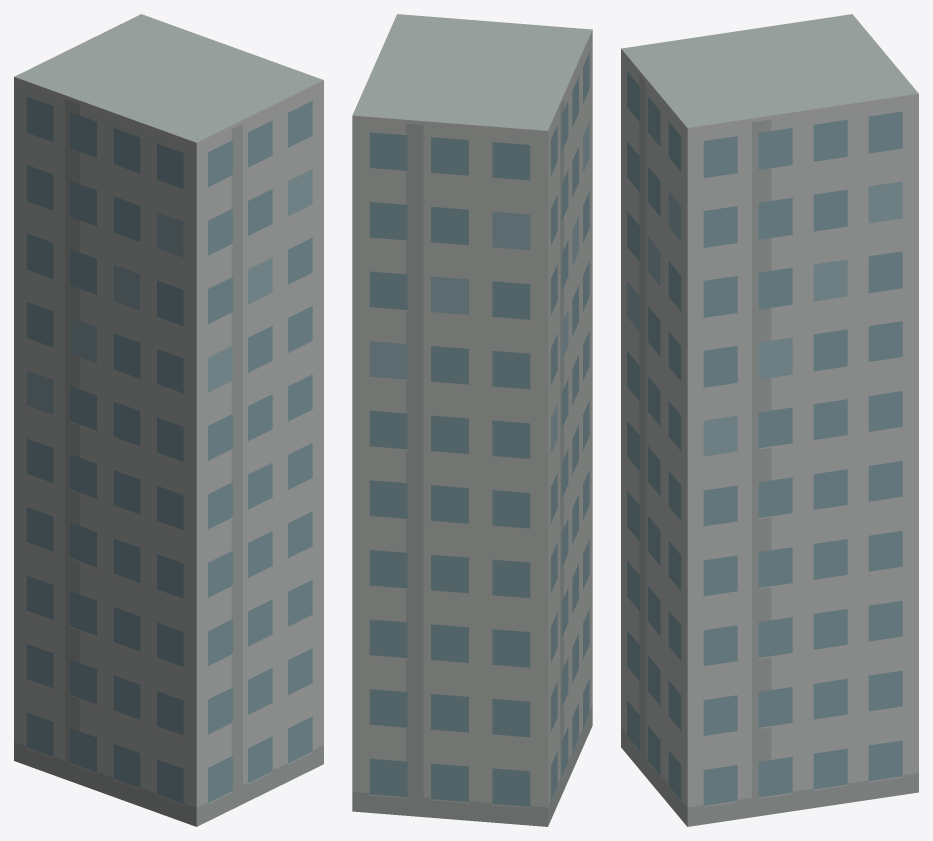
File: residential-d54a1a7d-efd8-4f74-9352-10bbf4dadf47.glb
3 views of the same model, side by side, from view 1: azimuth 30°, elevation 25°; view 2: azimuth 150°, elevation 25°; view 3: azimuth 270°, elevation 25° (orthographic). The views are drawn at different scales.
Visible parts, largest first — view 1: residential-d54a1a7d-efd8-4f74-9352-10bbf4dadf47.tmp; view 2: residential-d54a1a7d-efd8-4f74-9352-10bbf4dadf47.tmp; view 3: residential-d54a1a7d-efd8-4f74-9352-10bbf4dadf47.tmp.
Boxes of the visible parts, x1=… form: residential-d54a1a7d-efd8-4f74-9352-10bbf4dadf47.tmp: x1=14, y1=14, x2=323, y2=826; residential-d54a1a7d-efd8-4f74-9352-10bbf4dadf47.tmp: x1=352, y1=14, x2=592, y2=826; residential-d54a1a7d-efd8-4f74-9352-10bbf4dadf47.tmp: x1=621, y1=14, x2=918, y2=826.
Bounding box in the file's own units: 15.77 × 45 × 17.39.
